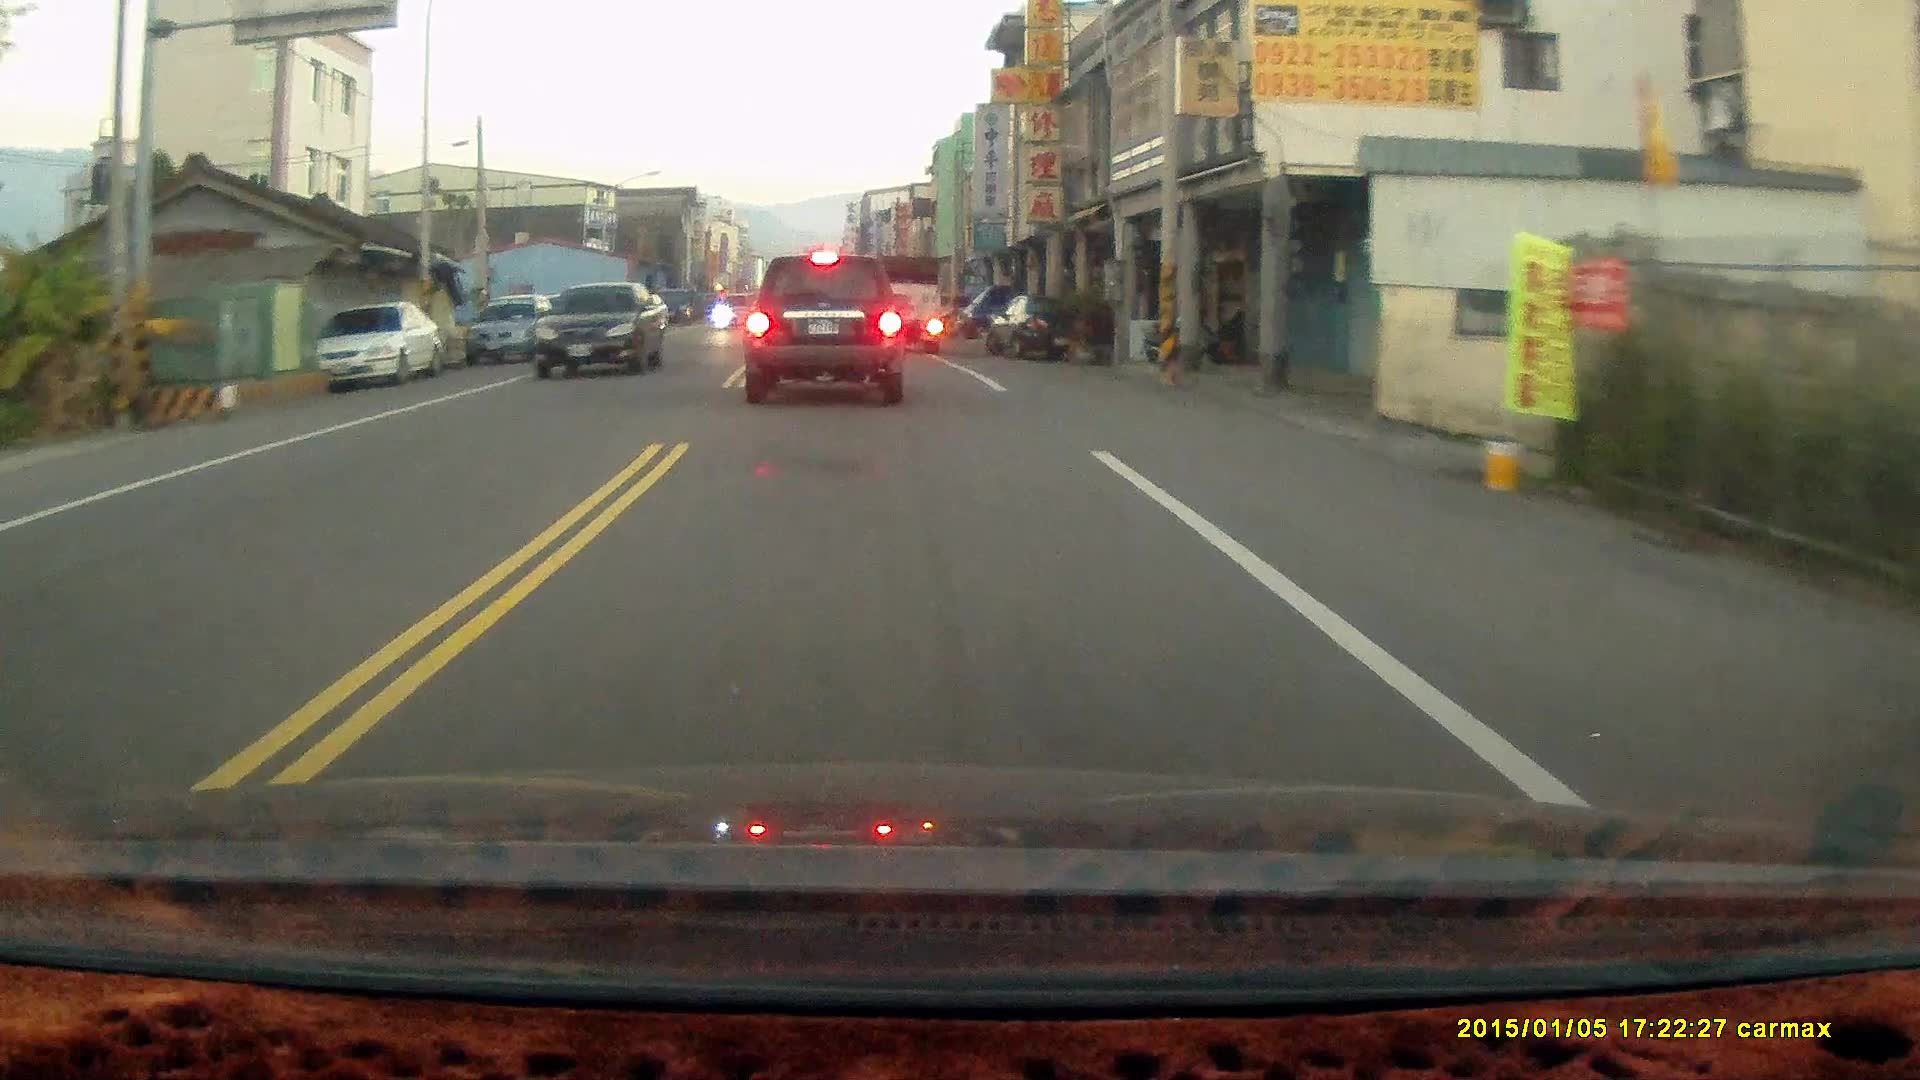vehicle: (746, 251, 913, 407), (538, 284, 669, 377), (316, 299, 446, 382), (869, 255, 947, 355), (992, 291, 1100, 363), (472, 290, 568, 364)
